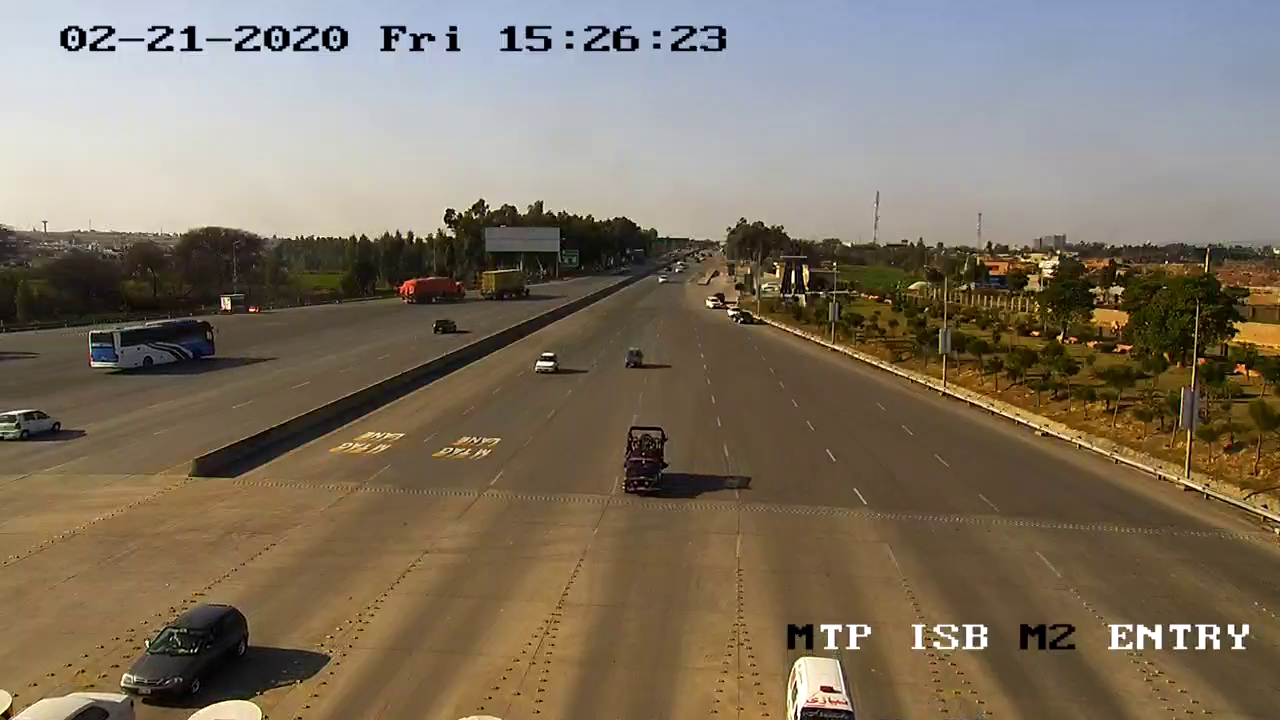f1: (116, 597, 255, 703), (614, 421, 672, 500)
